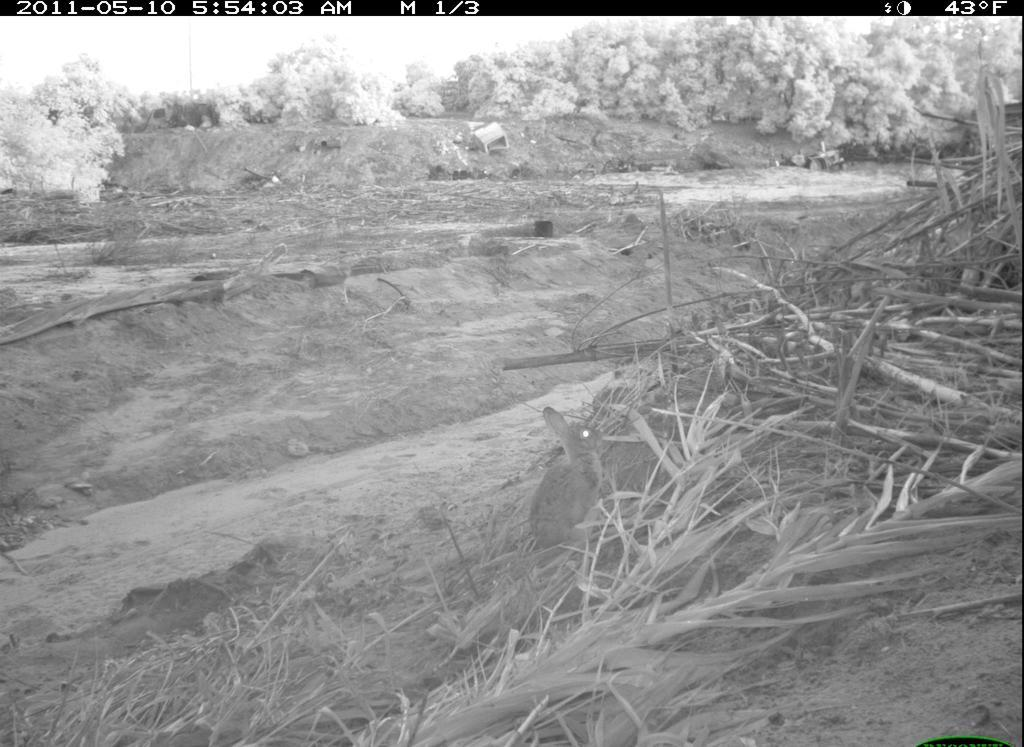rabbit: (525, 390, 615, 557)
